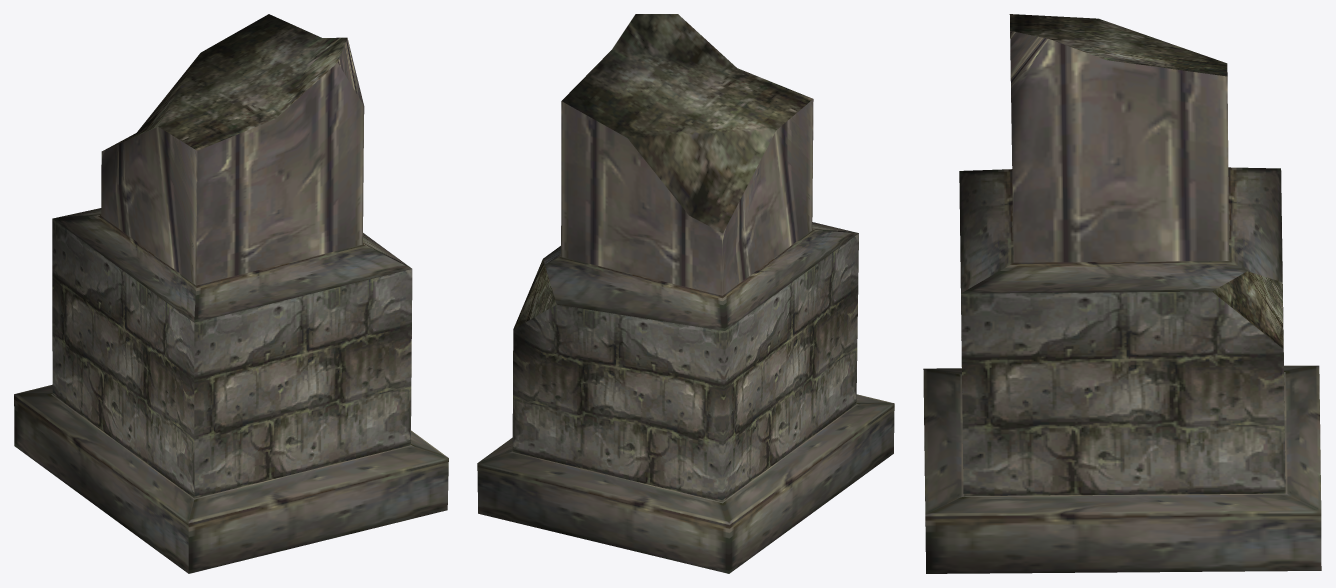
Rendered from S_Build_Muxue030.FBX.
3 renders of one model, left to right at view 1: azimuth 30°, elevation 25°; view 2: azimuth 150°, elevation 25°; view 3: azimuth 270°, elevation 25°, orthographic. The views are drawn at different scales.
Visible parts, largest first — view 1: S_Build_Muxue030; view 2: S_Build_Muxue030; view 3: S_Build_Muxue030.
Part boxes in pixels (x1,y1,x2,y2): S_Build_Muxue030: [14, 14, 448, 573]; S_Build_Muxue030: [477, 14, 894, 573]; S_Build_Muxue030: [923, 14, 1321, 573].
Size of the model in its own units: 270 by 309 by 436.
